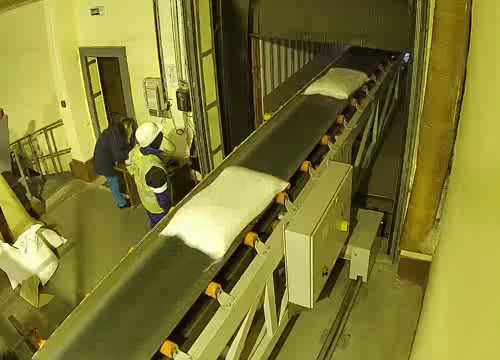bag: (156, 161, 292, 262), (299, 67, 369, 108)
